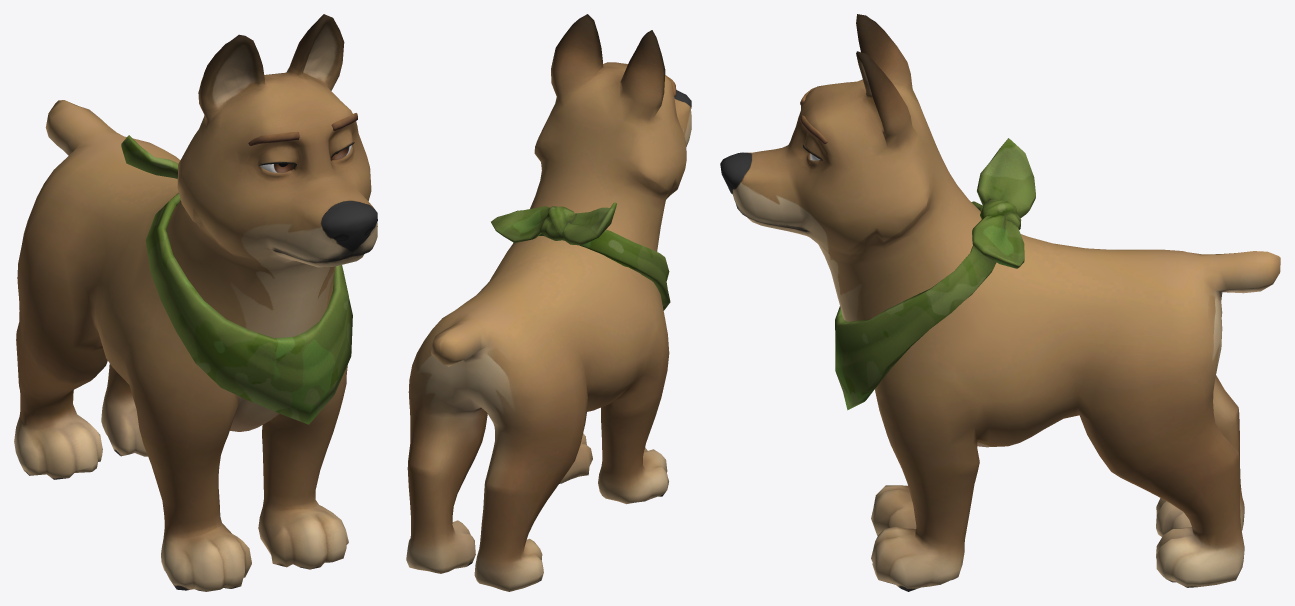
Rendered from DogPetFortnite.obj.
3 renders of one model, left to right at view 1: azimuth 30°, elevation 25°; view 2: azimuth 150°, elevation 25°; view 3: azimuth 270°, elevation 25°, orthographic. The views are drawn at different scales.
Visible parts, largest first — view 1: Dog; view 2: Dog; view 3: Dog.
Boxes of the visible parts, <box> form: Dog: <box>14,14,377,591</box>; Dog: <box>406,14,691,591</box>; Dog: <box>720,14,1280,591</box>.
Bounding box in the file's own units: 14.72 × 38.68 × 37.51.
